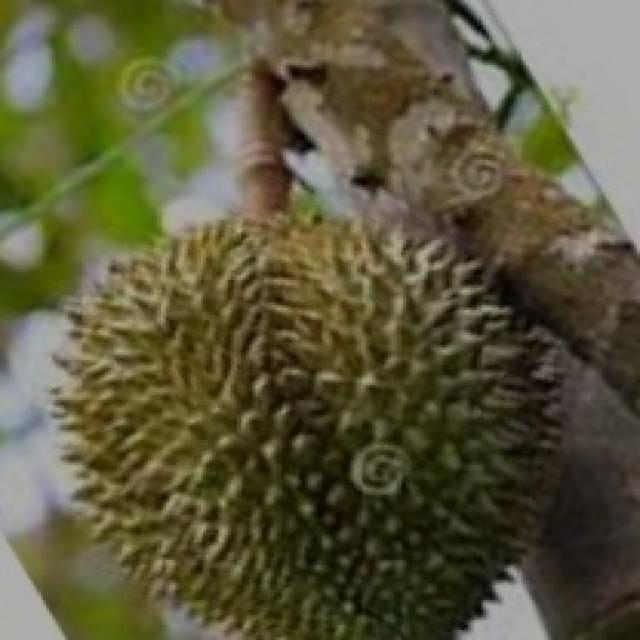fruit: (3, 202, 360, 638), (249, 205, 609, 637)
